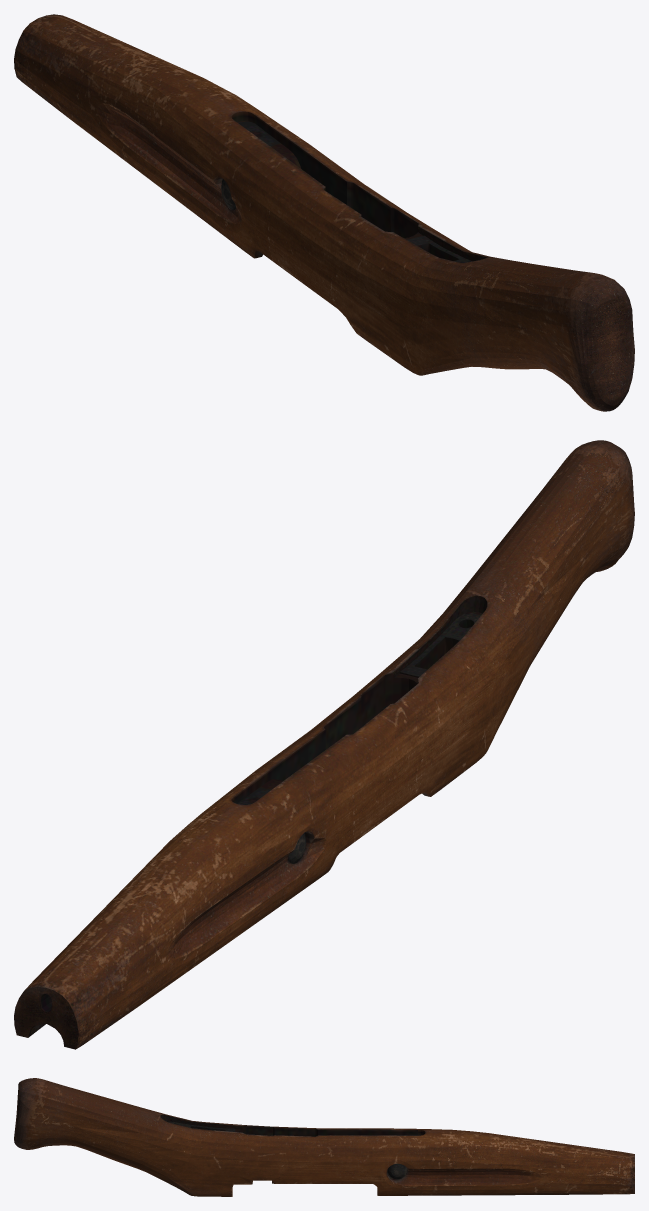
3 views of the same model, one above another, from view 1: azimuth 30°, elevation 25°; view 2: azimuth 150°, elevation 25°; view 3: azimuth 270°, elevation 25° (orthographic). The views are drawn at different scales.
Visible parts, largest first — view 1: TW_5bfd36290db834001966869a_PZ_Import; view 2: TW_5bfd36290db834001966869a_PZ_Import; view 3: TW_5bfd36290db834001966869a_PZ_Import.
Part boxes in pixels (x1,y1,x2,y2): TW_5bfd36290db834001966869a_PZ_Import: (14, 14, 634, 411); TW_5bfd36290db834001966869a_PZ_Import: (14, 440, 634, 1049); TW_5bfd36290db834001966869a_PZ_Import: (14, 1078, 634, 1196).
Bounding box in the file's own units: 0.0254 × 0.2917 × 0.0553.
1 material, 1 textured.
